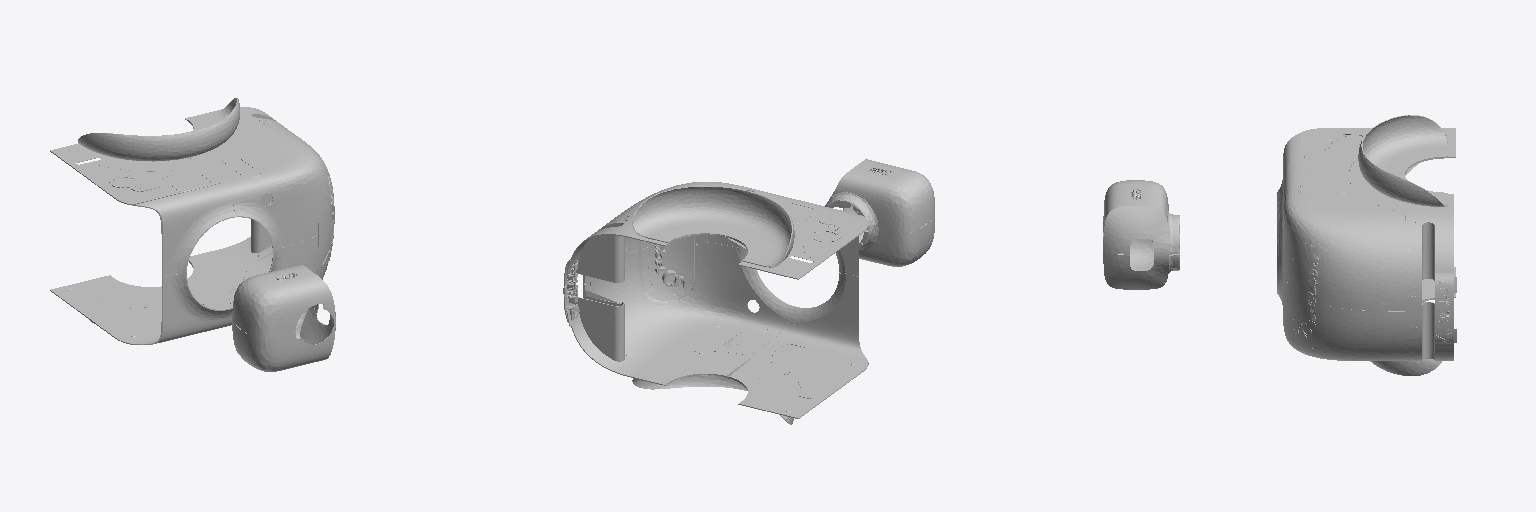
File: fixed_body.obj
The picture shows the model from 3 angles: view 1: azimuth 30°, elevation 25°; view 2: azimuth 150°, elevation 25°; view 3: azimuth 270°, elevation 25°; orthographic projection.
Size of the model in its own units: 0.7673 by 0.6194 by 0.9925.